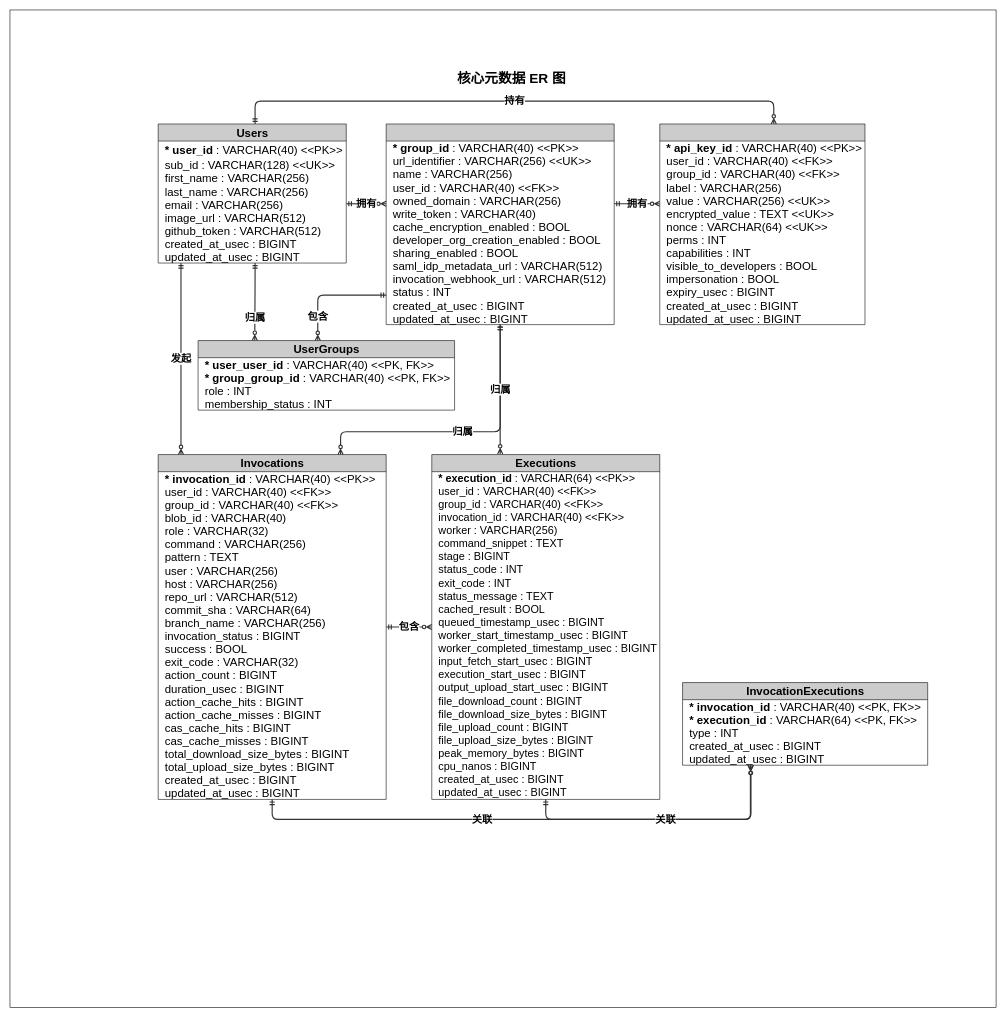
Some shapes in this 1006 by 1017 pixel diagram are drawn without their labels. The shapes that lost their labels are listed below. From the top down, each one's box as (x1, y1, x2, y2) in pixels, then its label:
(386, 123, 614, 325): Groups
(659, 123, 865, 325): APIKeys
